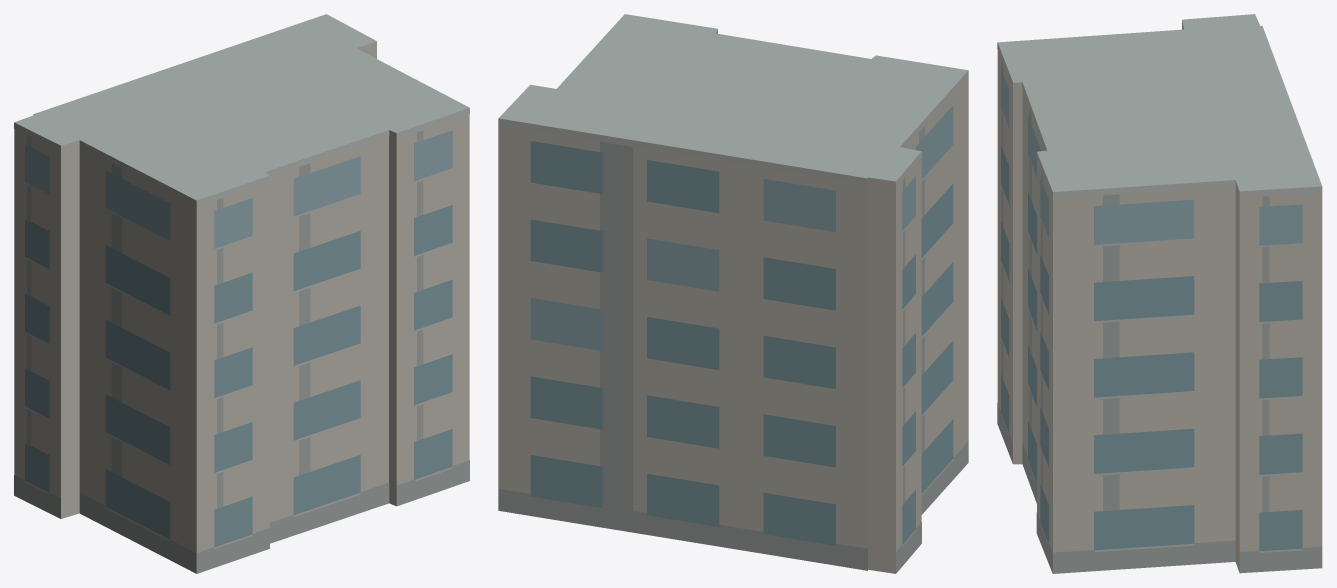
File: survey-upis-32720363.glb
3 renders of one model, left to right at view 1: azimuth 30°, elevation 25°; view 2: azimuth 150°, elevation 25°; view 3: azimuth 270°, elevation 25°, orthographic. The views are drawn at different scales.
Parts seen in each view (by area): view 1: survey-upis-32720363.tmp; view 2: survey-upis-32720363.tmp; view 3: survey-upis-32720363.tmp.
Part boxes in pixels (x1,y1,x2,y2): survey-upis-32720363.tmp: [14, 14, 469, 573]; survey-upis-32720363.tmp: [498, 14, 968, 573]; survey-upis-32720363.tmp: [997, 14, 1322, 573].
Bounding box in the file's own units: 14.11 × 14.1 × 10.88.
